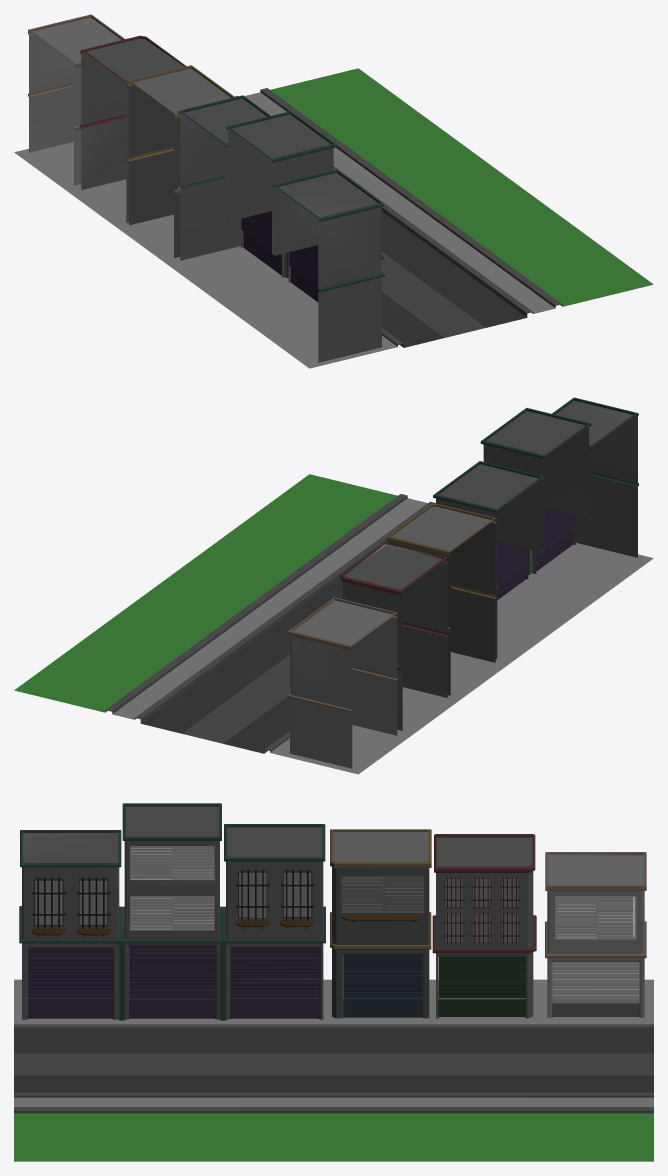
File: Tile_Rua_3.fbx
The picture shows the model from 3 angles, top to bottom: view 1: azimuth 30°, elevation 25°; view 2: azimuth 150°, elevation 25°; view 3: azimuth 270°, elevation 25°; orthographic projection. The views are drawn at different scales.
Parts seen in each view (by area): view 1: Tile_Rua_3; view 2: Tile_Rua_3; view 3: Tile_Rua_3.
Part boxes in pixels (<box>): Tile_Rua_3: <box>14,14,653,368</box>; Tile_Rua_3: <box>14,397,653,774</box>; Tile_Rua_3: <box>14,803,653,1161</box>.
Bounding box in the file's own units: 1209 × 574 × 1797.
